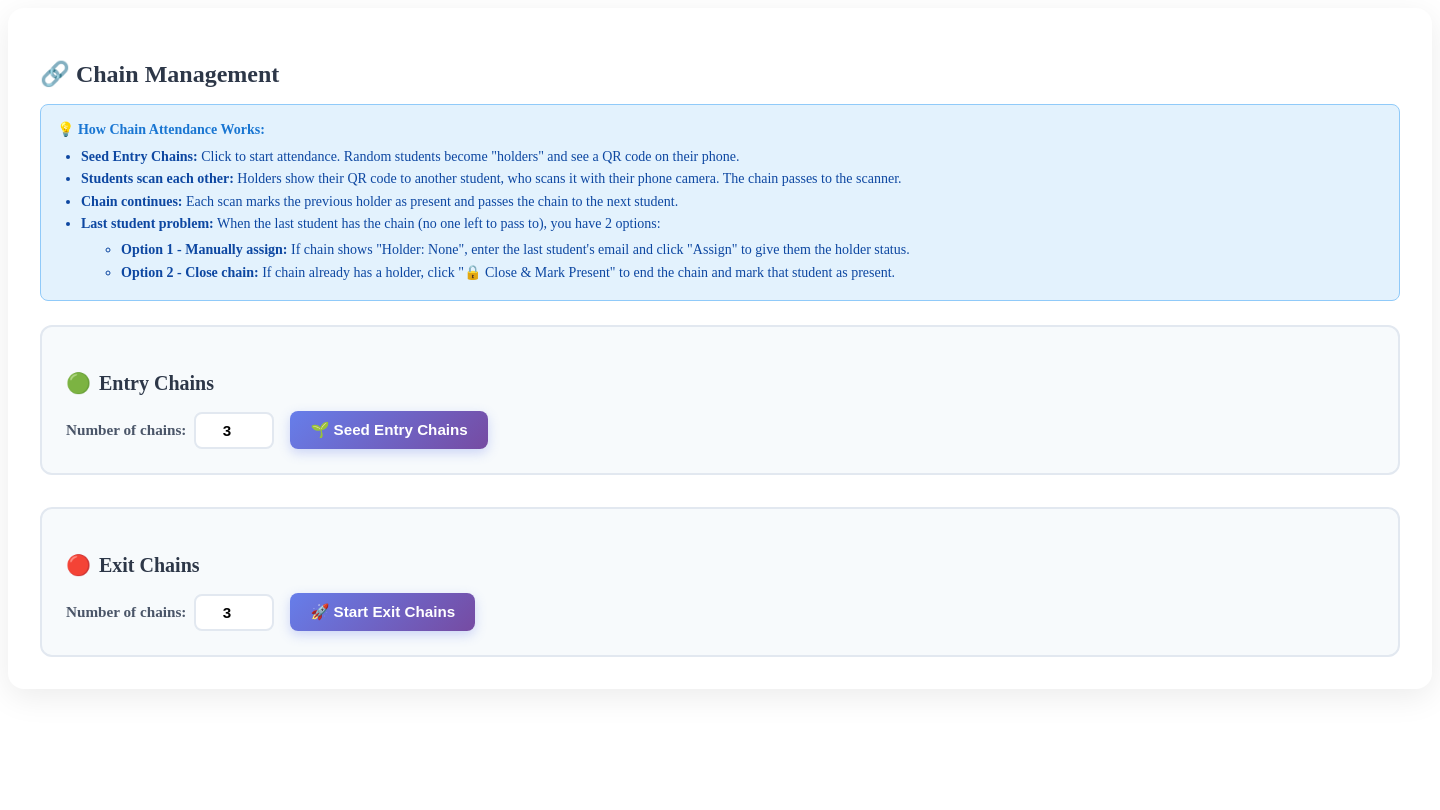
it: ChainManagementControls › Input Validation › should default to 1 when parsing invalid input
The width and height of the screenshot is (1440, 810).
Replace the text in the 1st number field labelled "Number of chains:" with "invalid" at (234, 430), box top-left (194, 412), bottom-right (274, 449)
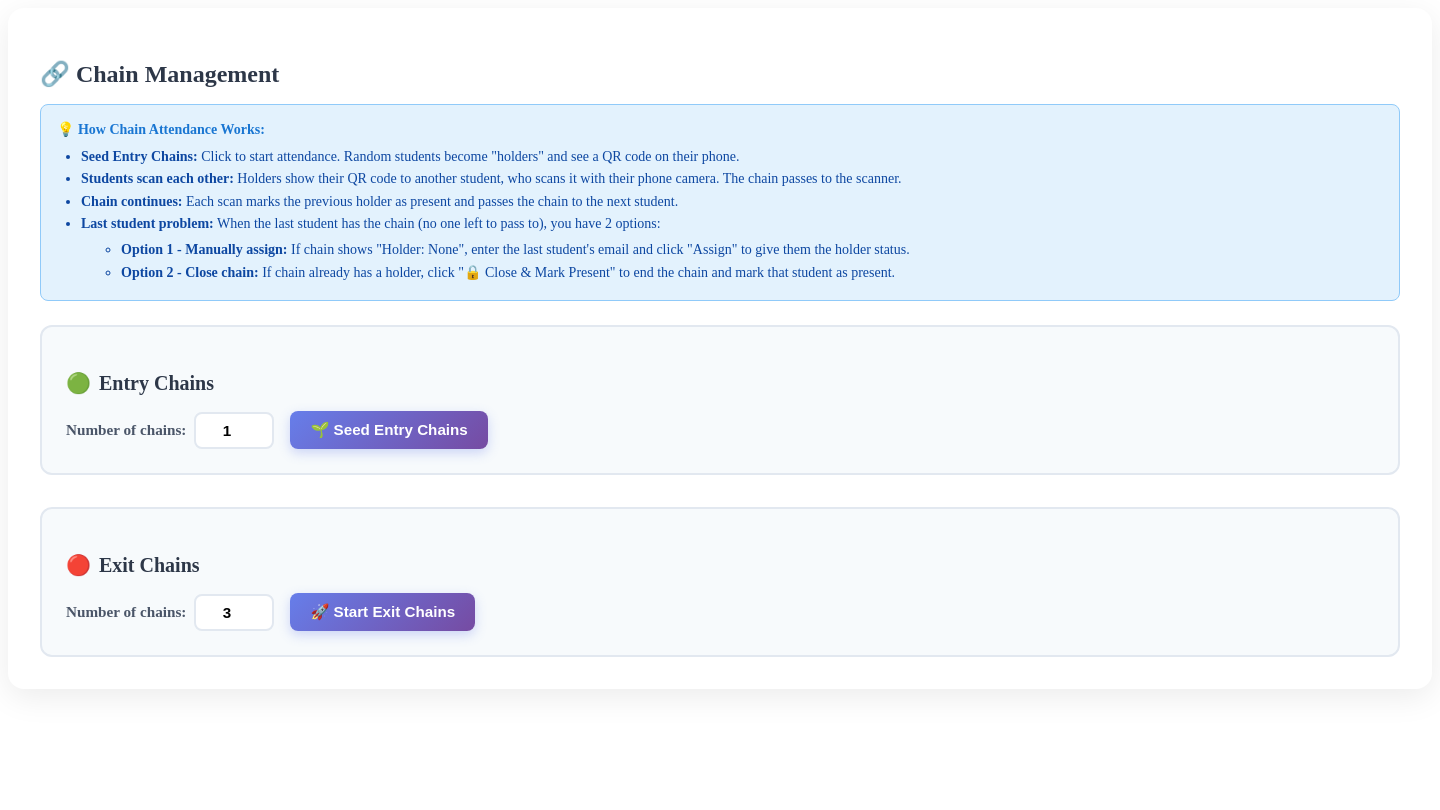
Now the 1st number field labelled "Number of chains:" holds "1", box top-left (194, 412), bottom-right (274, 449)
